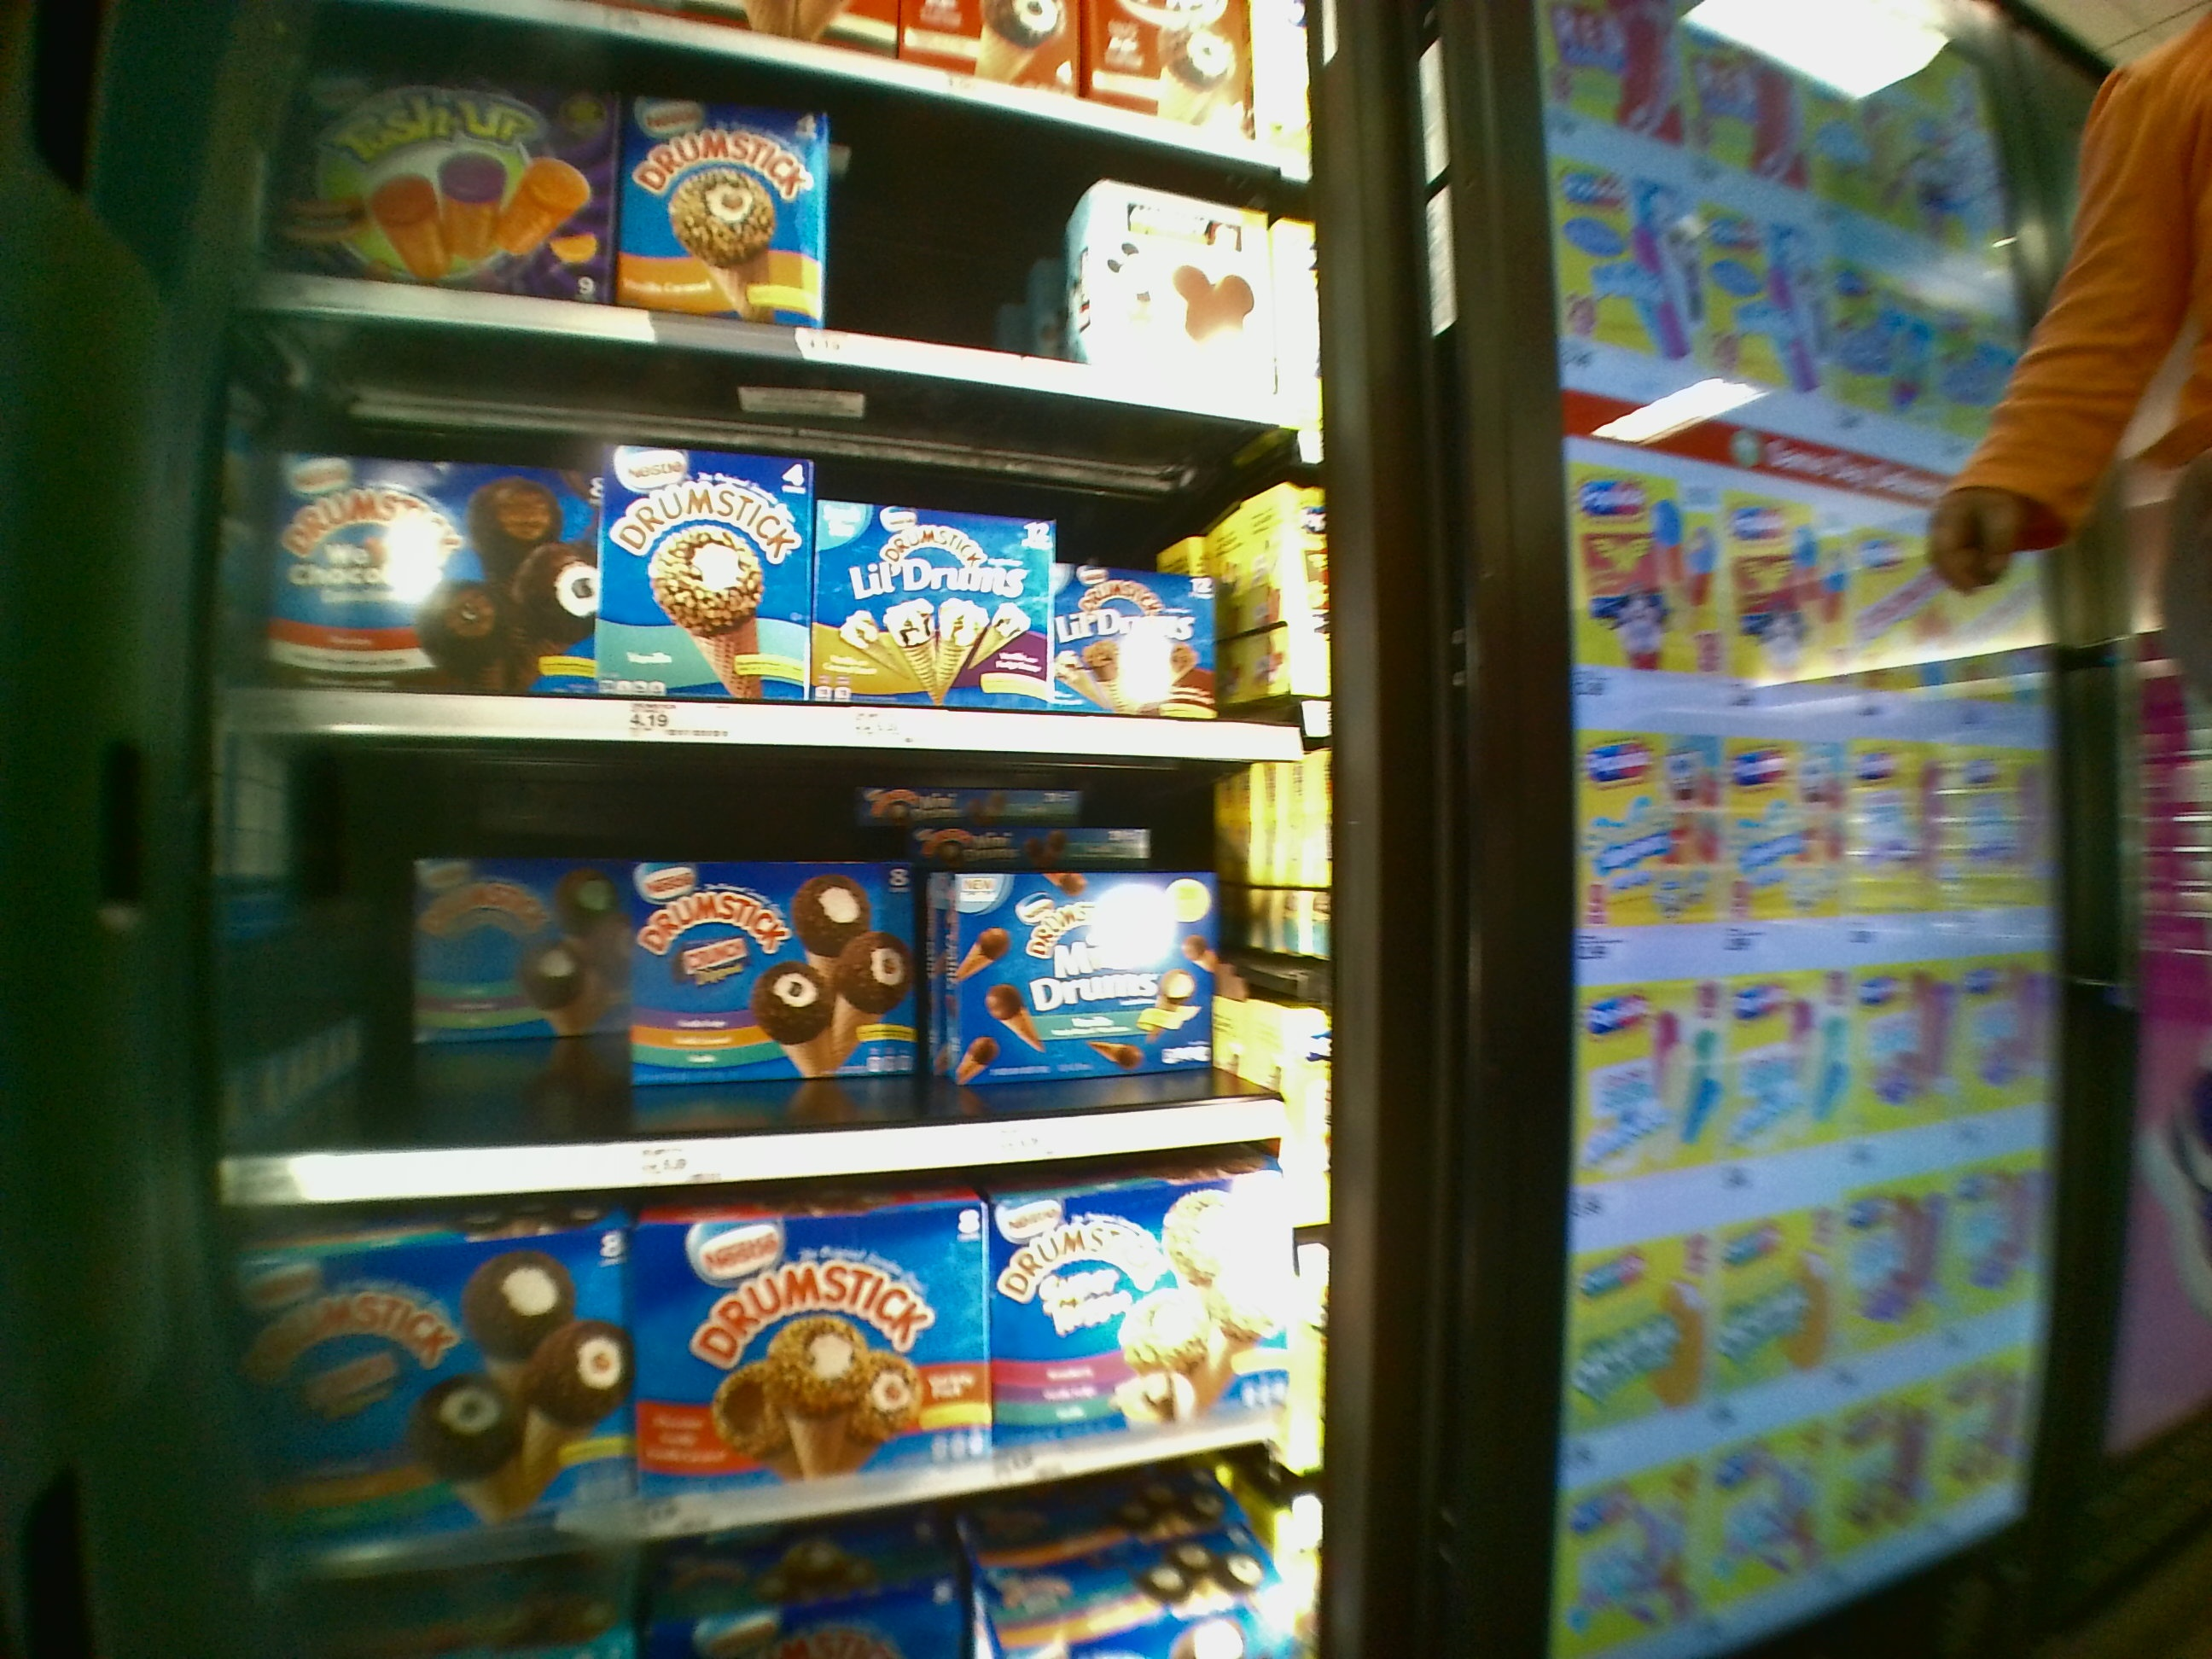shelf: (218, 732, 1334, 1173), (233, 380, 1322, 734), (214, 1169, 1298, 1521), (254, 49, 1299, 375)
